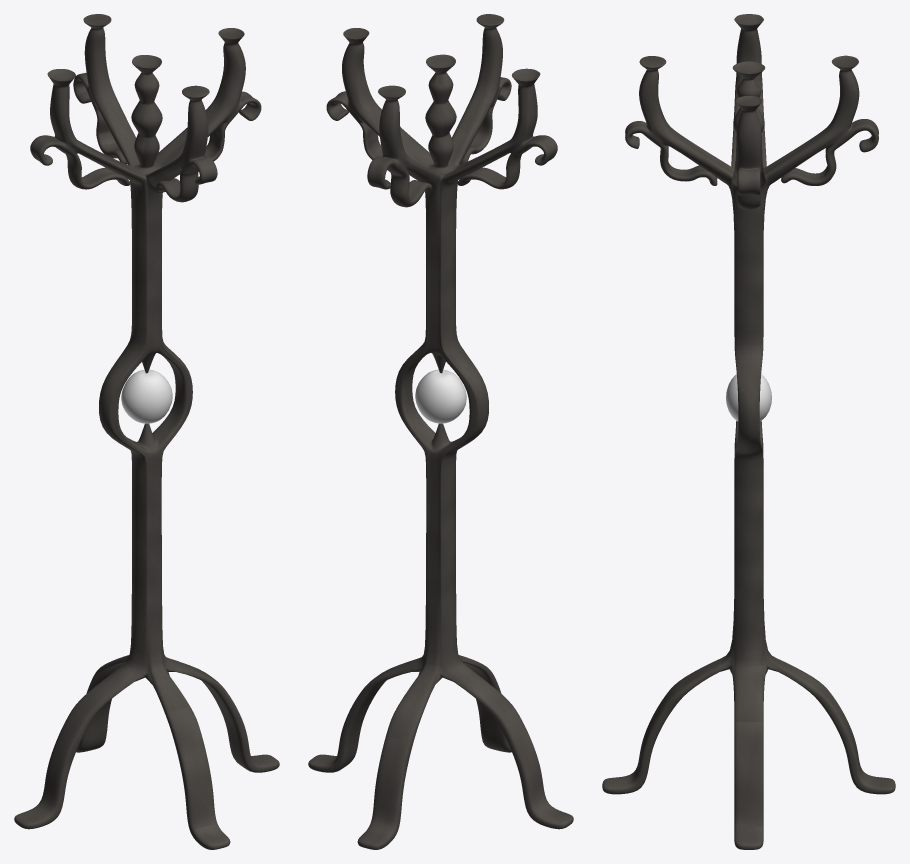
File: CandleHolderGround.fbx
3 renders of one model, left to right at view 1: azimuth 30°, elevation 25°; view 2: azimuth 150°, elevation 25°; view 3: azimuth 270°, elevation 25°, orthographic.
Parts seen in each view (by area): view 1: CandleHolder, ChrystalBall; view 2: CandleHolder, ChrystalBall; view 3: CandleHolder, ChrystalBall.
Part boxes in pixels (<box>): CandleHolder: <box>14,14,279,849</box>; ChrystalBall: <box>121,369,172,423</box>; CandleHolder: <box>308,14,573,849</box>; ChrystalBall: <box>415,369,466,423</box>; CandleHolder: <box>602,14,895,849</box>; ChrystalBall: <box>726,374,771,420</box>.
Bounding box in the file's own units: 50 × 137 × 50.
2 materials, 1 textured.
